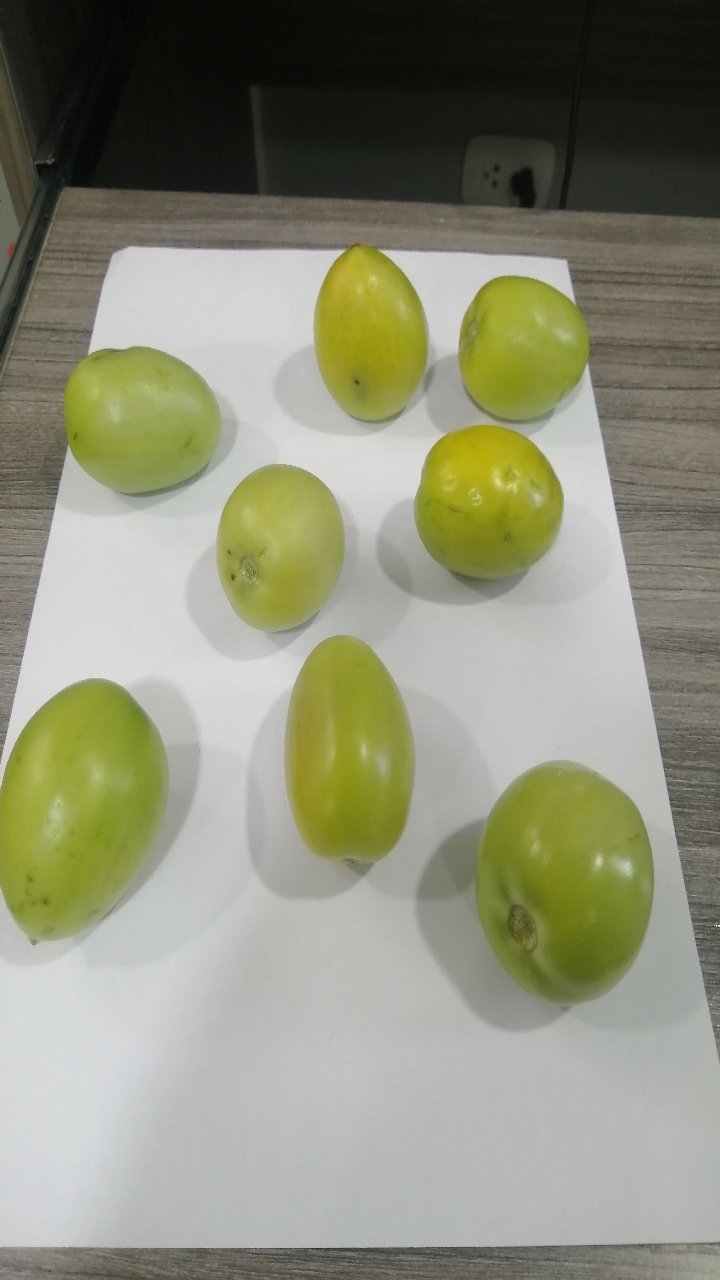tomateVerde: (452, 739, 664, 1020), (266, 622, 455, 909), (12, 654, 181, 957), (34, 323, 244, 505), (289, 232, 441, 435), (200, 451, 361, 642), (409, 403, 578, 583), (451, 257, 603, 429)
